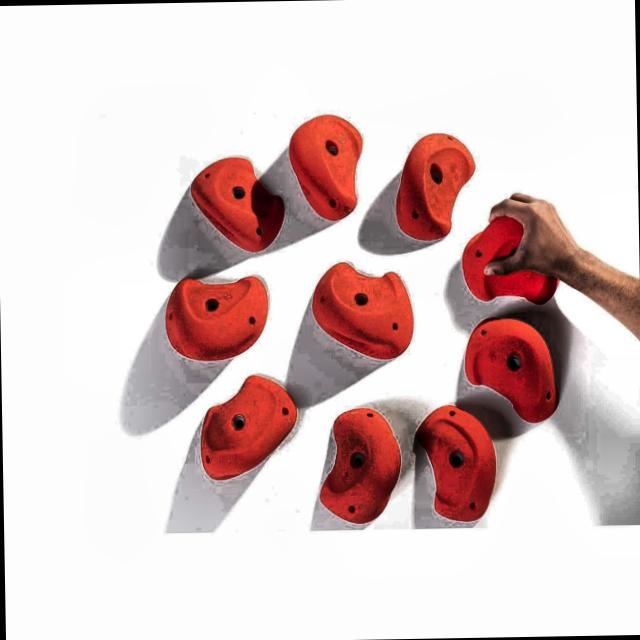Hold: (204, 373, 302, 491), (412, 404, 501, 526), (313, 406, 402, 527), (312, 256, 414, 360), (466, 313, 559, 424), (462, 206, 564, 306), (182, 152, 286, 250), (164, 272, 270, 362), (392, 130, 473, 240), (290, 112, 366, 220)
